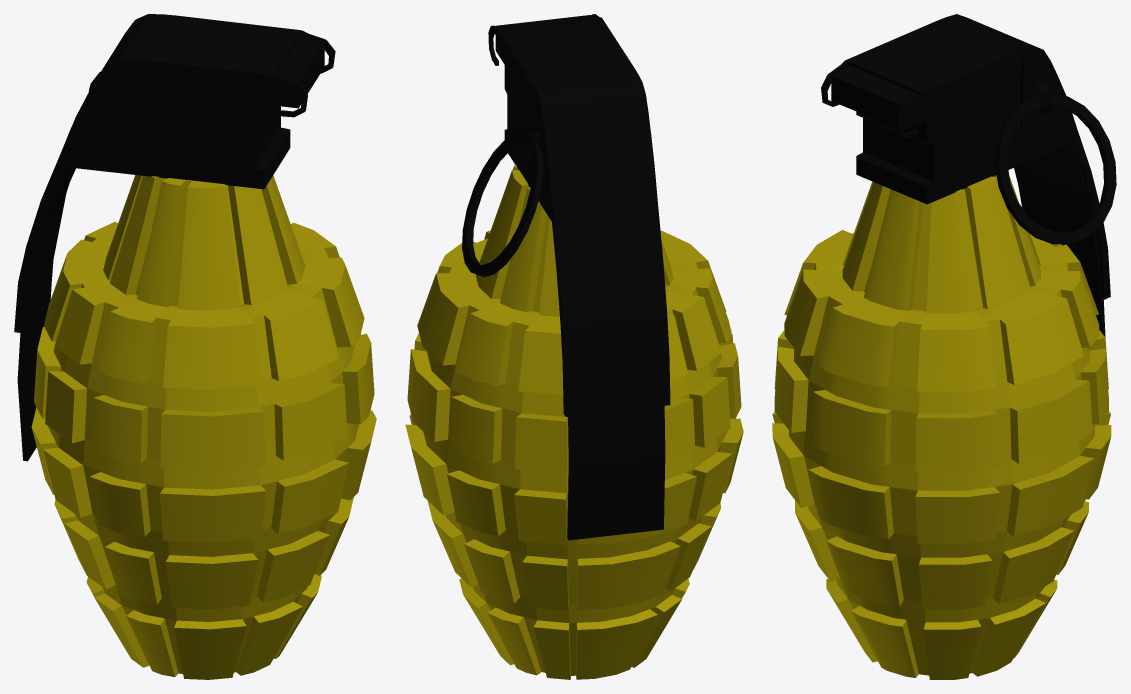
File: yellowgrenade.fbx
The picture shows the model from 3 angles, left to right: view 1: azimuth 30°, elevation 25°; view 2: azimuth 150°, elevation 25°; view 3: azimuth 270°, elevation 25°; orthographic projection. The views are drawn at different scales.
Visible parts, largest first — view 1: polySurface2, pCube1, pCube4; view 2: polySurface2, pCube4, pCube1, pCube5; view 3: polySurface2, pCube1, pCube4, pCube5.
Boxes of the visible parts, box(x1,y1,x2,y2) form: polySurface2: box(31, 175, 376, 679); pCube1: box(17, 36, 324, 461); pCube4: box(14, 14, 335, 333); polySurface2: box(405, 164, 743, 679); pCube4: box(488, 14, 670, 416); pCube1: box(495, 15, 665, 540); pCube5: box(462, 133, 543, 277); polySurface2: box(772, 175, 1111, 679); pCube1: box(831, 60, 1105, 337); pCube4: box(821, 14, 1110, 299); pCube5: box(995, 93, 1116, 244).
Size of the model in its own units: 10.28 by 20.01 by 10.44.
